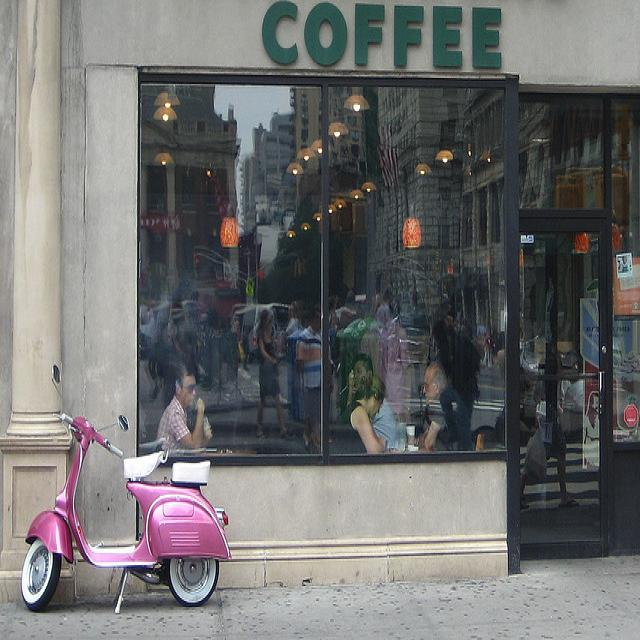motor: (19, 367, 232, 609)
